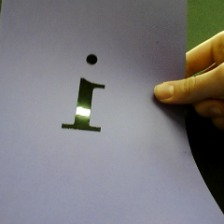violet1: (55, 50, 114, 138)
